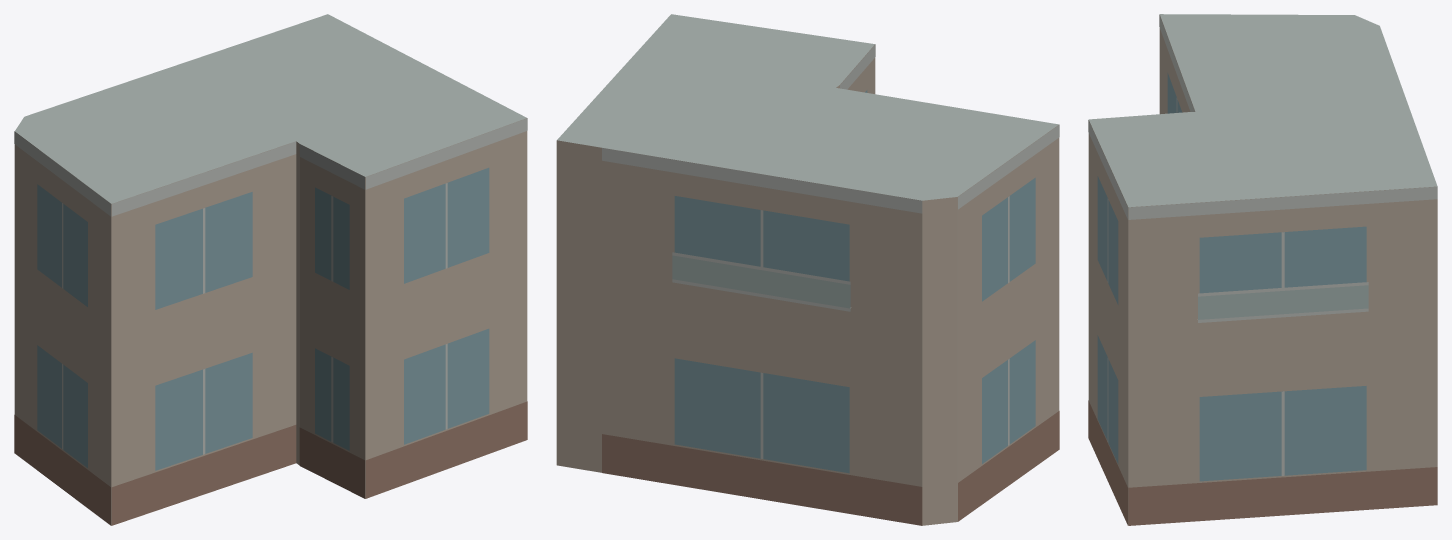
Rendered from survey-upis-32465294.glb.
3 views of the same model, side by side, from view 1: azimuth 30°, elevation 25°; view 2: azimuth 150°, elevation 25°; view 3: azimuth 270°, elevation 25° (orthographic). The views are drawn at different scales.
Visible parts, largest first — view 1: survey-upis-32465294.tmp; view 2: survey-upis-32465294.tmp; view 3: survey-upis-32465294.tmp.
Boxes of the visible parts, x1,y1,x2,y2 form: survey-upis-32465294.tmp: [14, 14, 527, 525]; survey-upis-32465294.tmp: [556, 14, 1059, 525]; survey-upis-32465294.tmp: [1088, 14, 1437, 525].
Size of the model in its own units: 7.95 by 6.1 by 6.06.
